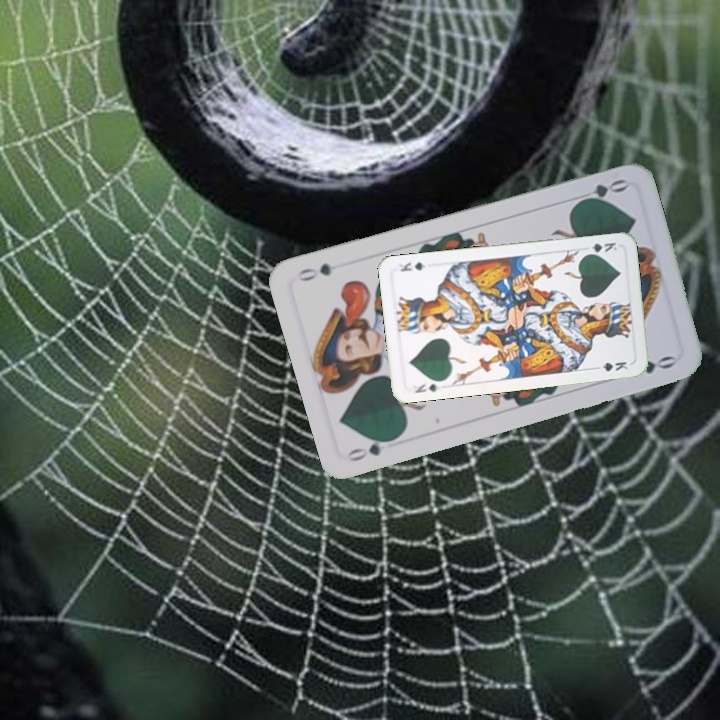GK: (581, 238, 619, 257), (411, 380, 443, 395)
GO: (571, 174, 630, 208), (344, 432, 400, 464)
